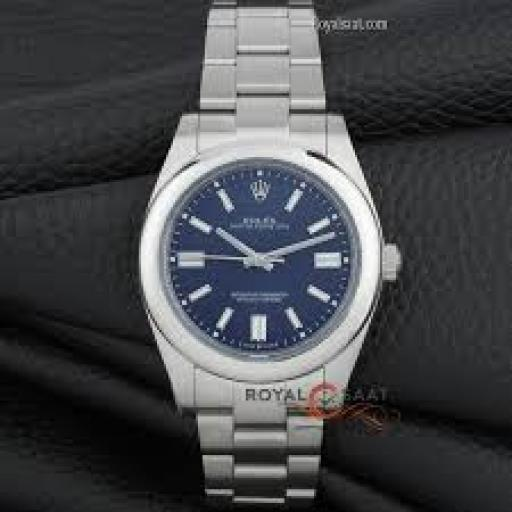KolSaati: (132, 0, 402, 512)
